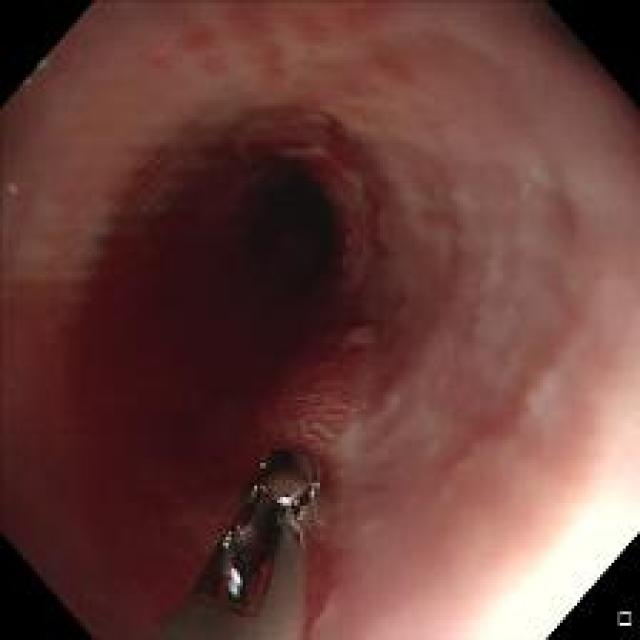color misalignment: (142, 30, 179, 66), (20, 55, 49, 88), (224, 566, 242, 598), (286, 512, 306, 538), (1, 178, 20, 198), (222, 529, 235, 554)
contrast: (140, 151, 355, 462)
instrument: (151, 450, 320, 631)
saturation: (474, 515, 628, 634)
specularity: (228, 566, 244, 586), (276, 495, 294, 505)
